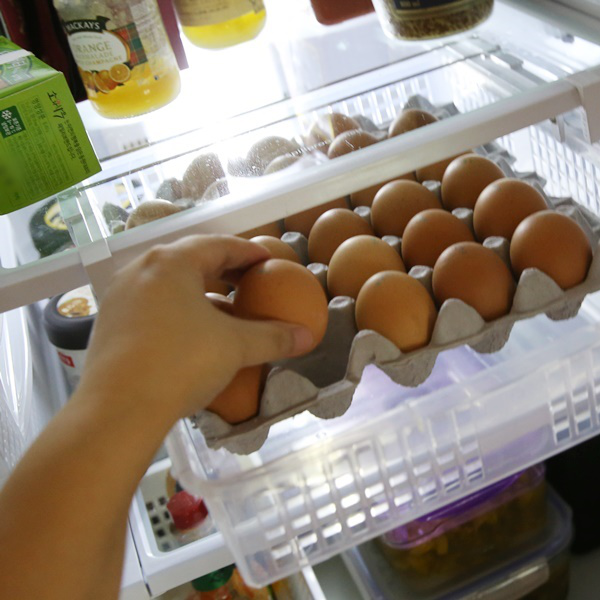egg: (133, 111, 592, 425)
